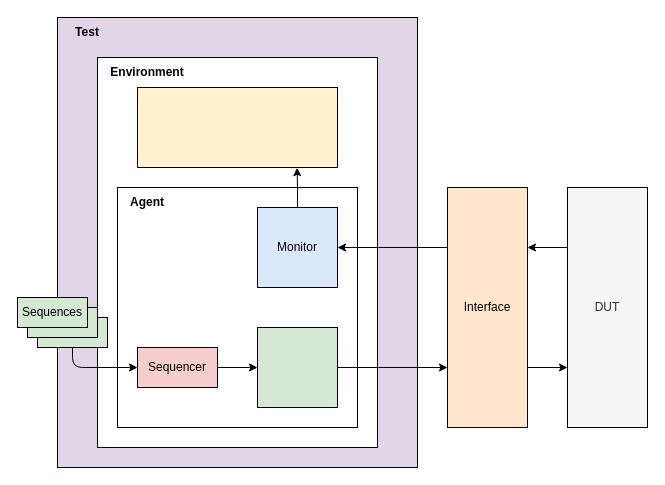
This 665x485 diagram has some shape labels left out. The centre of each missing label's shape, as x and y in pixels:
Driver: pixel 297 367
Scoreboard: pixel 237 127
